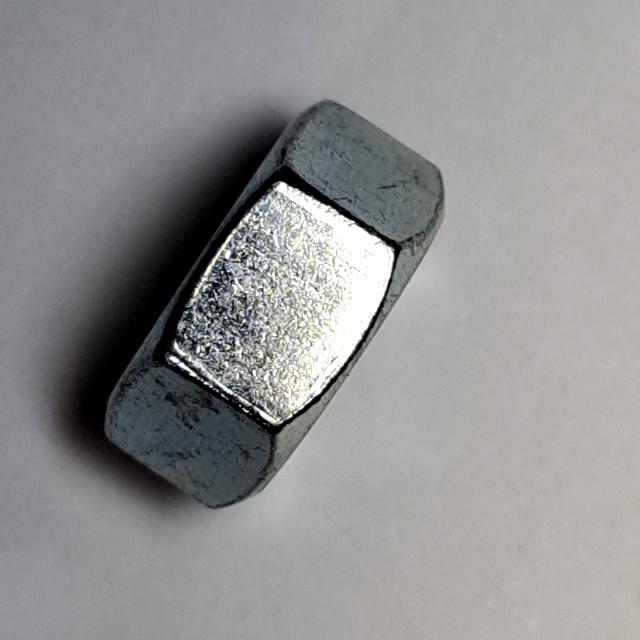Side_Excellent: (85, 85, 471, 526)
